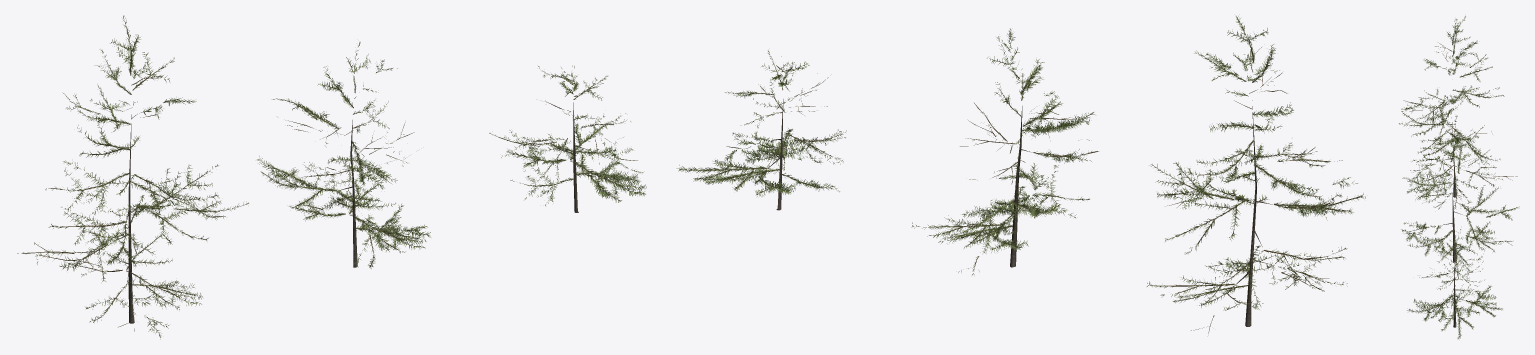
Rendered from fir_sapling.glb.
3 renders of one model, left to right at view 1: azimuth 30°, elevation 25°; view 2: azimuth 150°, elevation 25°; view 3: azimuth 270°, elevation 25°, orthographic. The views are drawn at different scales.
Visible parts, largest first — view 1: fir_sapling_a, fir_sapling_b, fir_sapling_c; view 2: fir_sapling_a, fir_sapling_b, fir_sapling_c; view 3: fir_sapling_a, fir_sapling_b, fir_sapling_c.
Boxes of the visible parts, x1,y1,x2,y2 form: fir_sapling_a: (17, 15, 248, 339); fir_sapling_b: (257, 42, 430, 268); fir_sapling_c: (489, 65, 646, 212); fir_sapling_a: (1147, 16, 1365, 333); fir_sapling_b: (911, 28, 1098, 275); fir_sapling_c: (676, 50, 846, 210); fir_sapling_a: (1399, 16, 1517, 209); fir_sapling_b: (1401, 130, 1519, 273); fir_sapling_c: (1407, 229, 1502, 338).
Bounding box in the file's own units: 2.74 × 1.3 × 0.7978.
2 materials, 2 textured.
